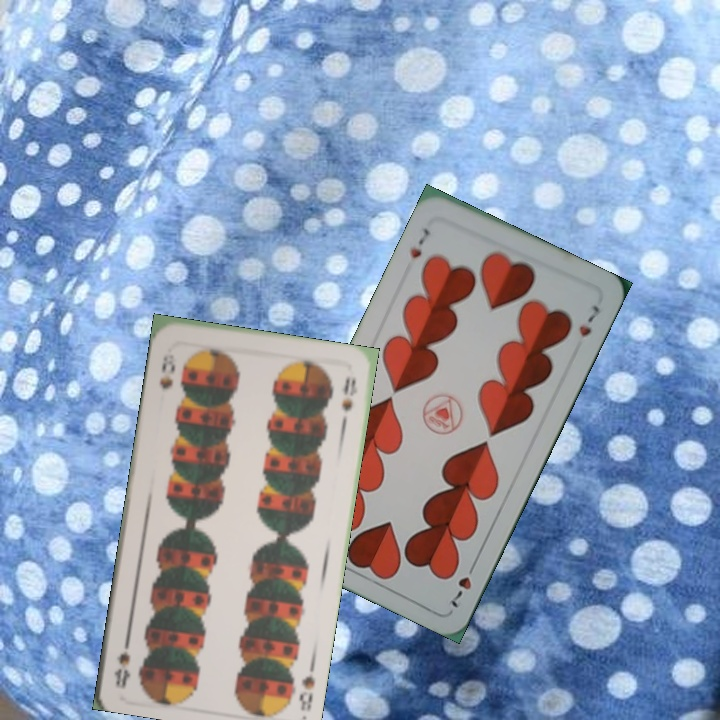H7: (445, 556, 480, 611), (405, 224, 434, 261)
S8: (295, 670, 317, 714), (155, 350, 178, 392)
